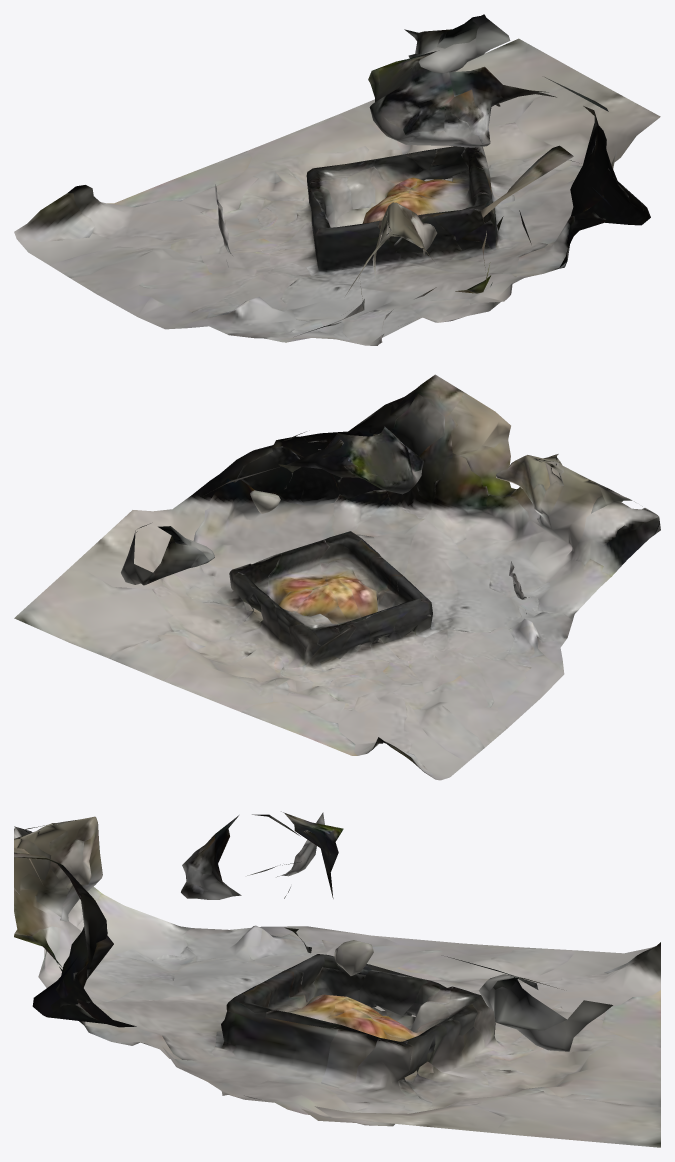
The model's file is hall.glb.
3 renders of one model, top to bottom at view 1: azimuth 30°, elevation 25°; view 2: azimuth 150°, elevation 25°; view 3: azimuth 270°, elevation 25°, orthographic. The views are drawn at different scales.
Bounding box in the file's own units: 2.18 × 0.9919 × 2.09.
1 material, 1 textured.
